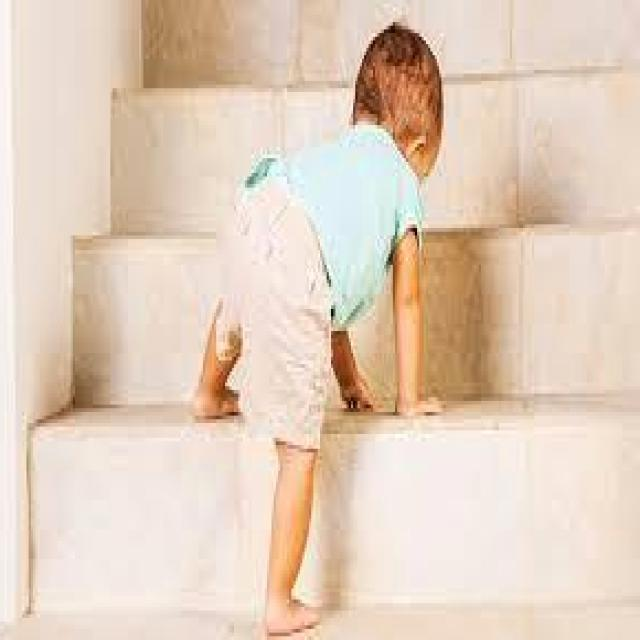child: (188, 18, 448, 640)
